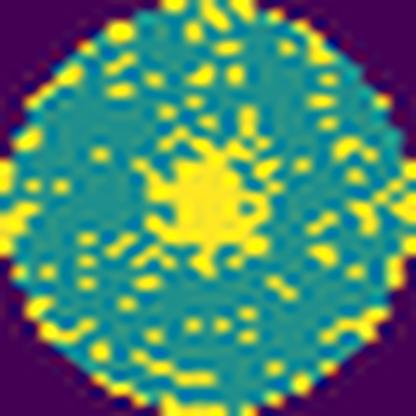Center: (132, 119, 283, 281)
